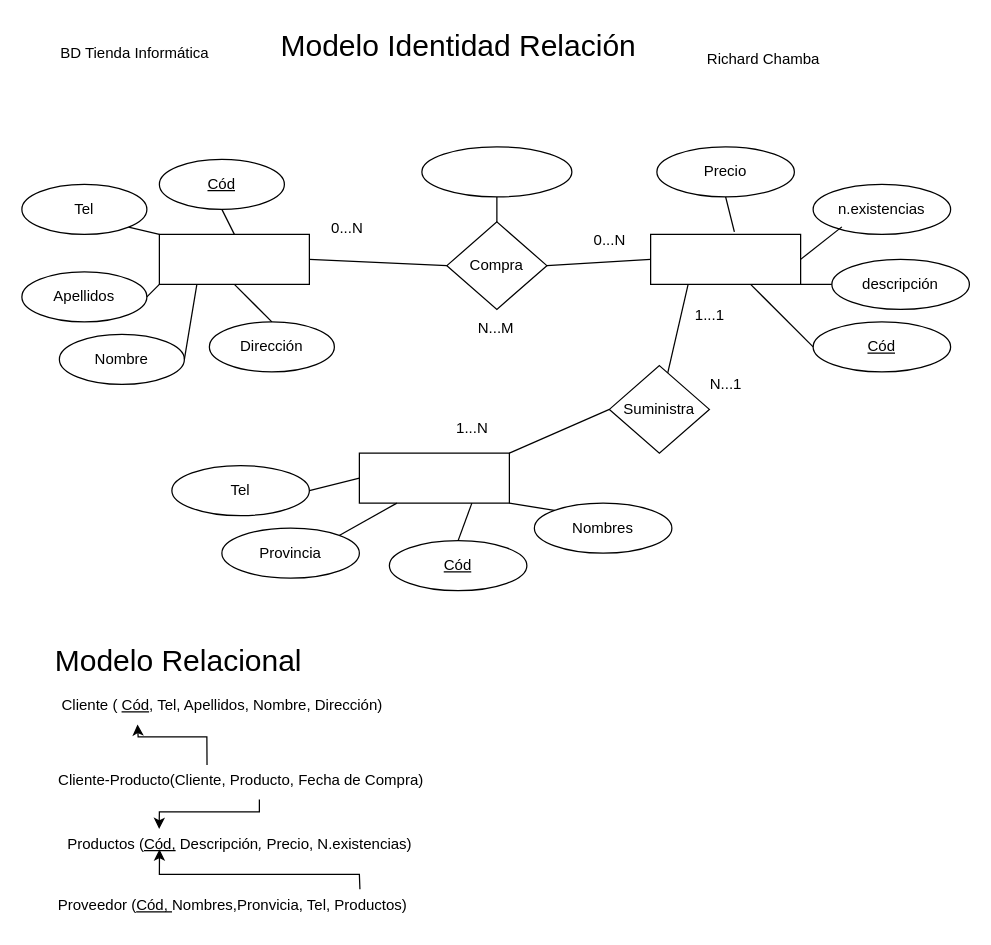
Image size: 991x945. Some labels were removed from this diagram. The shapes that lost their labels are listed below. From the top down, each one's centre as x and y in pixels, then its label:
point (496, 171): Fecha de compra
point (233, 258): Cliente
point (725, 258): Productos
point (433, 477): Proovedor
